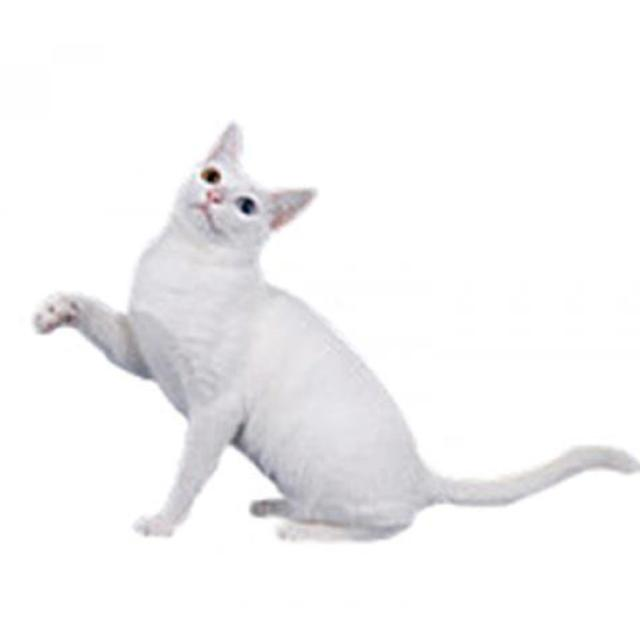Khao Manee: (29, 113, 640, 547)
